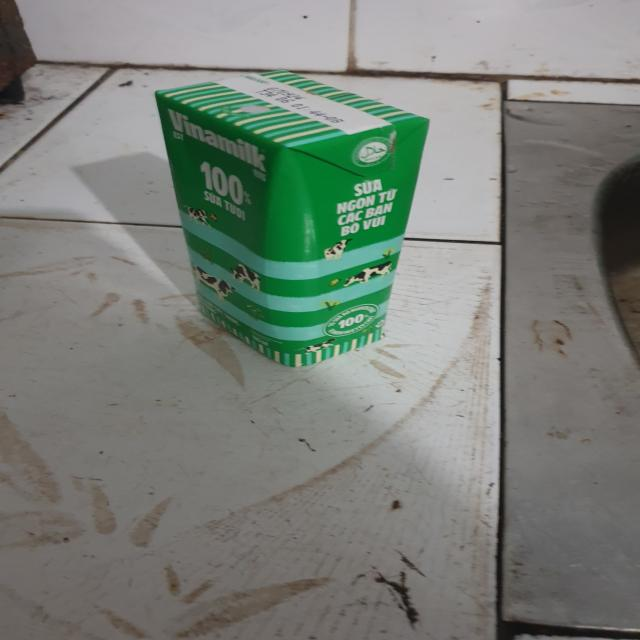Vina: (145, 66, 438, 371)
